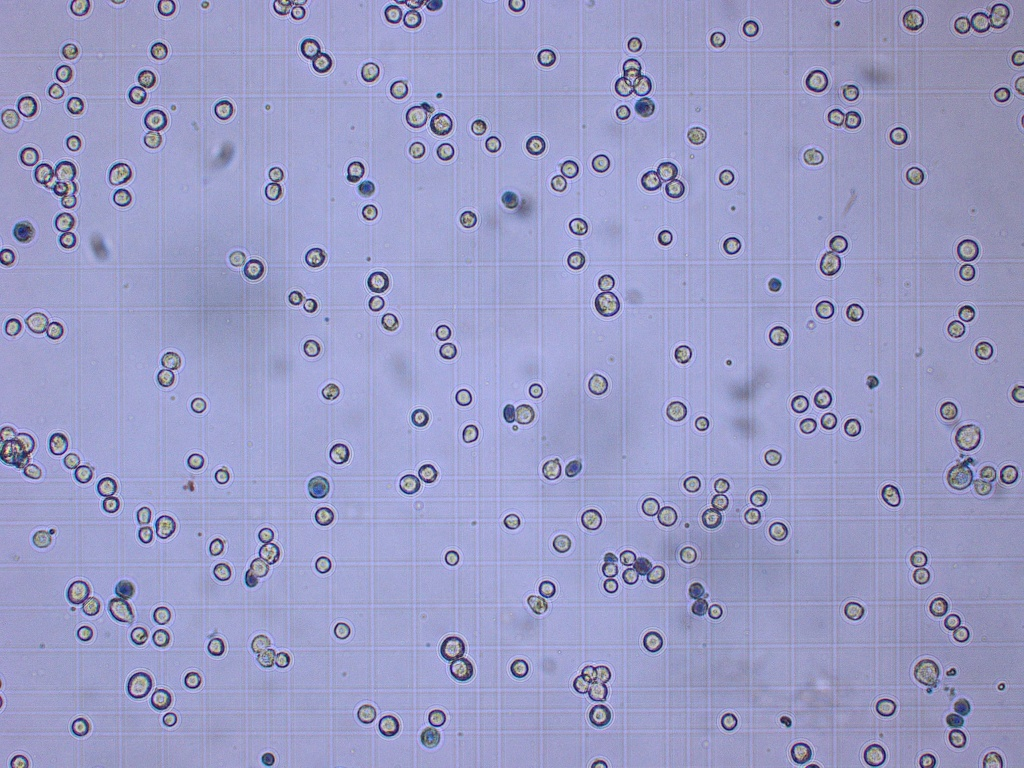Aggregate: (614, 57, 652, 96), (1, 423, 35, 465)
dead: (307, 476, 330, 498), (13, 220, 35, 242), (634, 98, 655, 117), (115, 579, 133, 598), (420, 730, 440, 747), (566, 459, 582, 478), (502, 192, 520, 208), (691, 600, 707, 617), (689, 581, 704, 599), (946, 712, 964, 727), (358, 181, 375, 196), (955, 697, 970, 713), (637, 557, 650, 575), (503, 405, 516, 422), (767, 277, 781, 291), (604, 552, 619, 564), (246, 570, 257, 586), (426, 1, 443, 10), (262, 753, 275, 764)
live: (915, 659, 940, 687), (956, 424, 981, 450), (108, 598, 134, 623), (595, 292, 620, 317), (127, 673, 151, 698), (947, 465, 971, 488), (805, 70, 829, 93), (442, 636, 466, 659), (449, 659, 474, 681), (428, 113, 452, 135), (580, 509, 603, 531), (68, 580, 90, 603), (144, 109, 167, 131), (957, 238, 979, 260), (790, 742, 812, 764), (156, 515, 177, 538), (820, 253, 841, 275), (864, 744, 886, 765), (150, 688, 171, 710), (367, 273, 390, 293), (26, 313, 49, 333), (903, 10, 924, 31), (244, 259, 265, 280), (970, 10, 990, 32), (588, 705, 610, 725), (110, 162, 130, 184), (640, 171, 663, 190), (768, 325, 788, 346), (300, 38, 320, 59), (643, 631, 664, 651), (880, 484, 899, 506), (381, 714, 399, 737), (992, 3, 1009, 27), (588, 374, 608, 394), (33, 163, 53, 183), (687, 125, 708, 144), (667, 401, 687, 420), (974, 340, 993, 360), (407, 106, 426, 126), (361, 63, 380, 83), (516, 403, 535, 423), (929, 597, 948, 617), (527, 595, 547, 614), (259, 543, 279, 562), (98, 477, 118, 496), (588, 681, 608, 700), (527, 135, 545, 156), (18, 95, 36, 116), (845, 303, 864, 322), (889, 126, 908, 145), (306, 247, 325, 266), (543, 461, 562, 480), (401, 474, 420, 493), (49, 433, 68, 452), (814, 300, 834, 318), (658, 161, 678, 179), (659, 505, 677, 525), (769, 521, 787, 541), (701, 509, 721, 527), (844, 602, 864, 620), (418, 464, 438, 482), (875, 699, 896, 716), (567, 252, 586, 270), (568, 218, 587, 236), (723, 236, 742, 254), (829, 234, 847, 253), (905, 166, 923, 185), (313, 54, 332, 72), (215, 101, 234, 119), (553, 536, 572, 554), (948, 729, 966, 748), (984, 750, 1003, 768), (330, 445, 349, 463), (316, 506, 334, 525), (2, 110, 21, 128), (803, 147, 823, 164), (385, 5, 402, 25), (439, 342, 457, 360), (647, 565, 665, 583), (208, 639, 226, 657), (102, 495, 120, 513), (55, 212, 73, 230), (150, 42, 168, 60), (20, 146, 38, 164), (56, 162, 74, 180), (673, 345, 692, 362), (790, 396, 809, 413), (1000, 465, 1017, 484), (826, 109, 845, 126), (593, 154, 610, 173), (459, 211, 478, 228), (403, 10, 422, 27), (381, 312, 398, 331), (749, 489, 768, 506), (711, 493, 730, 510), (72, 718, 91, 735), (33, 529, 50, 548), (128, 87, 147, 104), (844, 110, 861, 128), (562, 160, 579, 178), (455, 388, 473, 405), (511, 660, 529, 677), (358, 705, 376, 722), (333, 622, 351, 639), (130, 628, 148, 645), (214, 563, 232, 580), (64, 453, 81, 471), (4, 318, 21, 336), (67, 95, 84, 113), (947, 321, 966, 337), (389, 82, 408, 98), (595, 664, 611, 683), (251, 636, 271, 651), (799, 417, 816, 434), (844, 419, 861, 436), (940, 402, 957, 419), (959, 264, 976, 281), (537, 49, 554, 66), (551, 175, 568, 192), (361, 203, 378, 220), (642, 498, 659, 515), (539, 579, 556, 596), (623, 567, 640, 584), (157, 368, 174, 385), (153, 629, 170, 646), (84, 597, 101, 614), (257, 651, 274, 668), (75, 465, 92, 482), (60, 231, 77, 248), (814, 391, 832, 407), (821, 412, 837, 430), (843, 85, 861, 101), (742, 21, 760, 37), (667, 181, 685, 197), (437, 144, 455, 160), (408, 142, 426, 158), (265, 183, 283, 199), (462, 424, 478, 442), (323, 383, 341, 399), (24, 464, 42, 480), (574, 674, 590, 692), (483, 136, 502, 151), (186, 454, 205, 469), (251, 560, 270, 575), (114, 190, 133, 205), (144, 132, 163, 147), (71, 1, 90, 16), (162, 353, 182, 367), (598, 275, 615, 291), (764, 449, 781, 465), (959, 305, 975, 322), (614, 104, 631, 120), (684, 474, 700, 491), (680, 547, 697, 563), (721, 714, 737, 731), (229, 251, 246, 267), (190, 396, 206, 413), (154, 606, 170, 623), (259, 526, 275, 543), (48, 322, 64, 339), (138, 70, 155, 86), (56, 65, 73, 81), (184, 673, 202, 688), (719, 170, 735, 186), (471, 118, 487, 134), (429, 709, 445, 725), (413, 409, 429, 425), (304, 339, 320, 355), (976, 480, 991, 497), (955, 16, 970, 33), (347, 161, 364, 176), (745, 508, 762, 523), (913, 568, 930, 583), (504, 514, 521, 529), (276, 651, 291, 668), (1, 248, 16, 265), (63, 43, 78, 60), (66, 134, 81, 151), (76, 626, 94, 640), (157, 1, 175, 15), (10, 755, 29, 768), (710, 32, 726, 47), (944, 614, 960, 629), (953, 627, 969, 642), (920, 753, 936, 768), (210, 538, 224, 555), (139, 526, 153, 543), (1011, 384, 1024, 402), (60, 195, 79, 207), (291, 5, 306, 20), (994, 87, 1010, 101), (369, 296, 385, 310), (528, 383, 544, 397), (287, 290, 303, 304), (216, 469, 230, 485), (910, 552, 927, 565), (658, 230, 672, 245), (628, 36, 642, 51), (437, 324, 451, 339), (708, 604, 723, 618), (620, 550, 634, 565), (446, 551, 460, 566), (316, 557, 330, 572), (582, 665, 596, 680), (270, 166, 282, 183), (695, 415, 708, 430), (604, 579, 619, 592), (303, 299, 318, 312), (163, 712, 178, 725), (137, 507, 150, 522), (1012, 49, 1024, 65), (48, 85, 64, 97), (508, 1, 526, 11), (981, 467, 994, 480), (715, 479, 728, 492), (603, 564, 617, 576), (1016, 76, 1024, 95), (592, 759, 608, 768)
